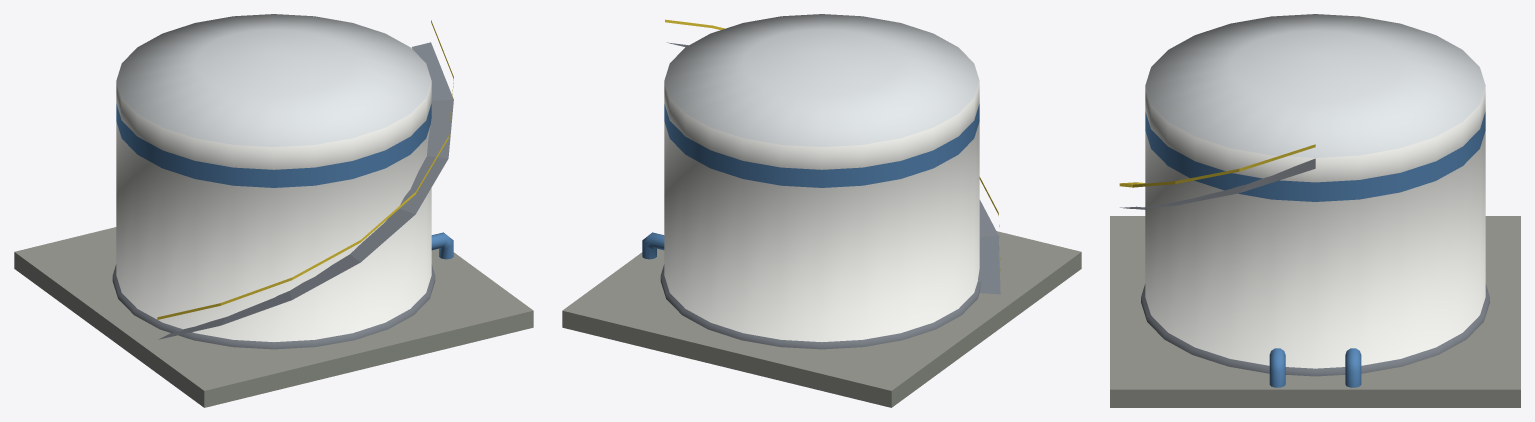
The model's file is mashup-tank-top-prebuilt.fbx.
3 views of the same model, side by side, from view 1: azimuth 30°, elevation 25°; view 2: azimuth 150°, elevation 25°; view 3: azimuth 270°, elevation 25° (orthographic). The views are drawn at different scales.
Visible parts, largest first — view 1: a1074/0/mashup-tank-top-prebuilt; view 2: a1074/0/mashup-tank-top-prebuilt; view 3: a1074/0/mashup-tank-top-prebuilt.
Part boxes in pixels (x1,y1,x2,y2): a1074/0/mashup-tank-top-prebuilt: [14, 14, 533, 407]; a1074/0/mashup-tank-top-prebuilt: [562, 14, 1081, 407]; a1074/0/mashup-tank-top-prebuilt: [1110, 14, 1520, 407].
Size of the model in its own units: 15.2 by 10.9 by 15.2.
